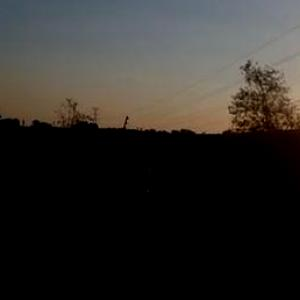follow: (90, 136, 182, 299)
